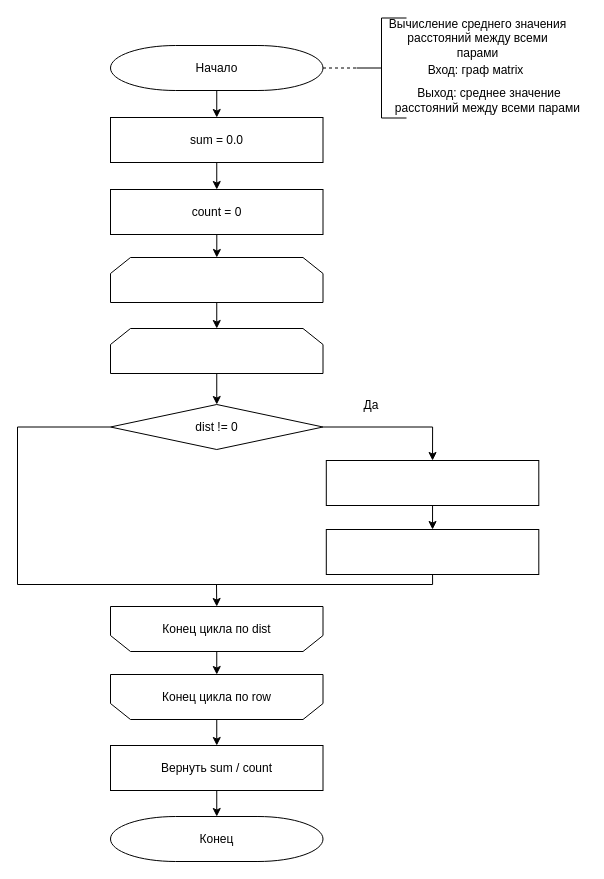
The diagram is 604 pixels wide and 879 high, and some of its shapes have lost their labels. Each missing label, with the box of its shape:
count++: (325, 528, 539, 574)
sum += dist: (325, 460, 539, 506)
Цикл по dist в row: (110, 328, 323, 374)
Цикл по row в matrix: (110, 256, 323, 302)
